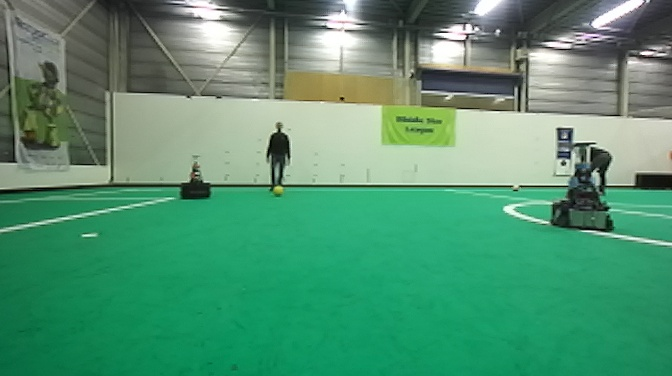ball: (271, 183, 289, 200), (510, 182, 522, 194)
human: (261, 118, 294, 193), (572, 141, 613, 190)
robot: (549, 139, 616, 232), (177, 153, 215, 201)
